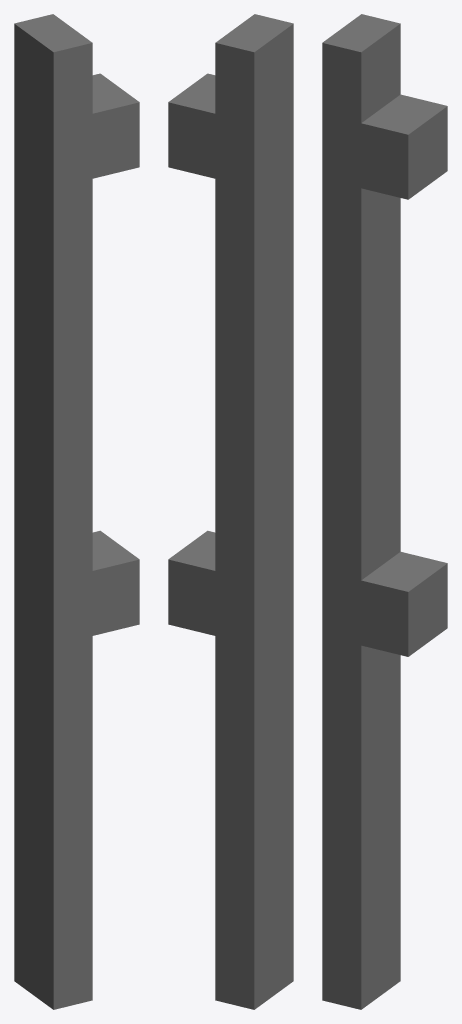
File: SighnHolderShort.fbx
3 renders of one model, left to right at view 1: azimuth 30°, elevation 25°; view 2: azimuth 150°, elevation 25°; view 3: azimuth 330°, elevation 25°, orthographic.
Parts seen in each view (by area): view 1: Cube.002; view 2: Cube.002; view 3: Cube.002.
Boxes of the visible parts, box(x1,y1,x2,y2) form: Cube.002: box(14, 14, 139, 1009); Cube.002: box(168, 14, 293, 1009); Cube.002: box(322, 14, 447, 1009).
Size of the model in its own units: 38.33 by 407 by 30.32.
